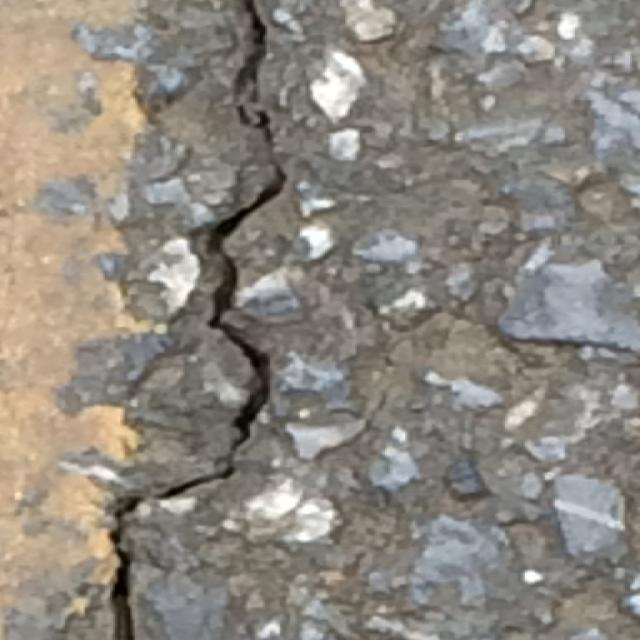crack: (99, 0, 306, 638)
